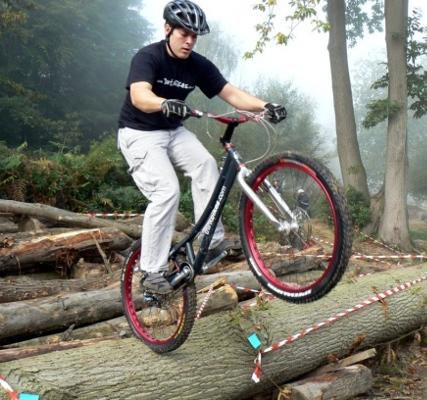person: (118, 1, 284, 304)
